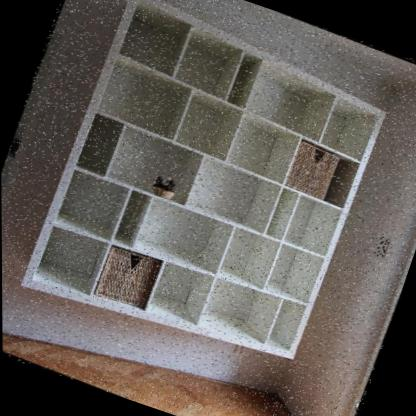Shelf: (2, 0, 405, 402)
